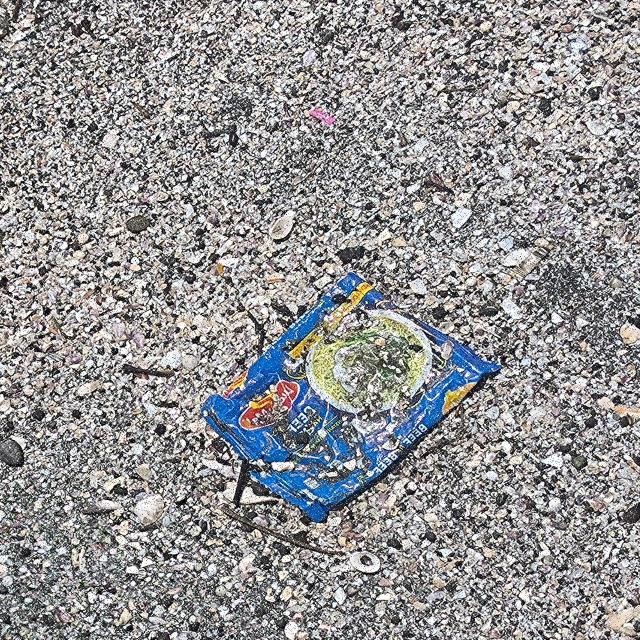plastic_waste: (198, 271, 504, 525)
